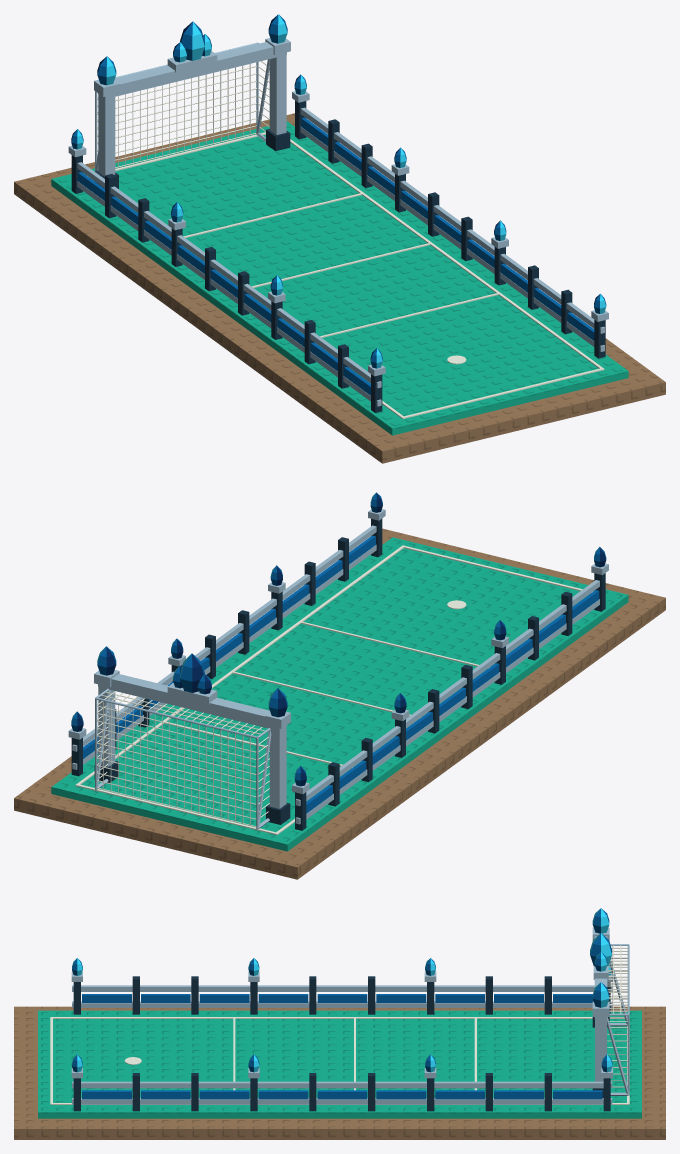
File: diamond-field.fbx
3 views of the same model, one above another, from view 1: azimuth 30°, elevation 25°; view 2: azimuth 150°, elevation 25°; view 3: azimuth 270°, elevation 25° (orthographic). The views are drawn at different scales.
Parts seen in each view (by area): view 1: DF_Diamond_Turf, DF_Earth_Base, DF_Steel_Rails, DF_Fence_Posts, DF_Steel_Goal, DF_Grass_Bed, DF_Goal_Net, DF_White_Markings, DF_Goal_Crest_Crystal.001; view 2: DF_Diamond_Turf, DF_Earth_Base, DF_Steel_Rails, DF_Goal_Net, DF_Fence_Posts, DF_Steel_Goal, DF_Grass_Bed, DF_White_Markings, DF_Net_Rear_Frame, DF_Goal_Supports, DF_Goal_Crest_Crystal.001; view 3: DF_Diamond_Turf, DF_Earth_Base, DF_Steel_Rails, DF_Fence_Posts, DF_Grass_Bed, DF_White_Markings, DF_Goal_Net, DF_Steel_Goal, DF_Goal_Supports, DF_Net_Rear_Frame, DF_Sideline_Panel.011, DF_Sideline_Panel.014 (+17 smaller).
Boxes of the visible parts, x1,y1,x2,y2 form: DF_Diamond_Turf: (52,121,627,428); DF_Earth_Base: (14,113,665,463); DF_Steel_Rails: (77,107,604,406); DF_Fence_Posts: (71,100,605,412); DF_Steel_Goal: (98,42,286,176); DF_Grass_Bed: (51,179,628,435); DF_Goal_Net: (96,61,269,168); DF_White_Markings: (87,132,604,418); DF_Goal_Crest_Crystal.001: (180,21,204,60); DF_Diamond_Turf: (52,537,627,844); DF_Earth_Base: (14,528,665,879); DF_Steel_Rails: (72,525,599,824); DF_Goal_Net: (97,691,269,826); DF_Fence_Posts: (71,518,605,830); DF_Steel_Goal: (98,674,286,808); DF_Grass_Bed: (51,595,628,851); DF_White_Markings: (75,545,592,834); DF_Net_Rear_Frame: (95,688,270,829); DF_Goal_Supports: (95,690,271,828); DF_Goal_Crest_Crystal.001: (180,653,204,692); DF_Diamond_Turf: (38,1010,641,1112); DF_Earth_Base: (14,1006,665,1139); DF_Steel_Rails: (72,985,612,1104); DF_Fence_Posts: (73,976,610,1111); DF_Grass_Bed: (38,1011,641,1118); DF_White_Markings: (50,1017,629,1104); DF_Goal_Net: (607,945,628,1087); DF_Steel_Goal: (594,936,607,1081); DF_Goal_Supports: (607,959,629,1095); DF_Net_Rear_Frame: (609,944,629,1095); DF_Sideline_Panel.011: (199,1090,249,1099); DF_Sideline_Panel.014: (376,1090,426,1099).
Bounding box in the file's own units: 960 × 534 × 2160.
8 materials, 8 textured.
